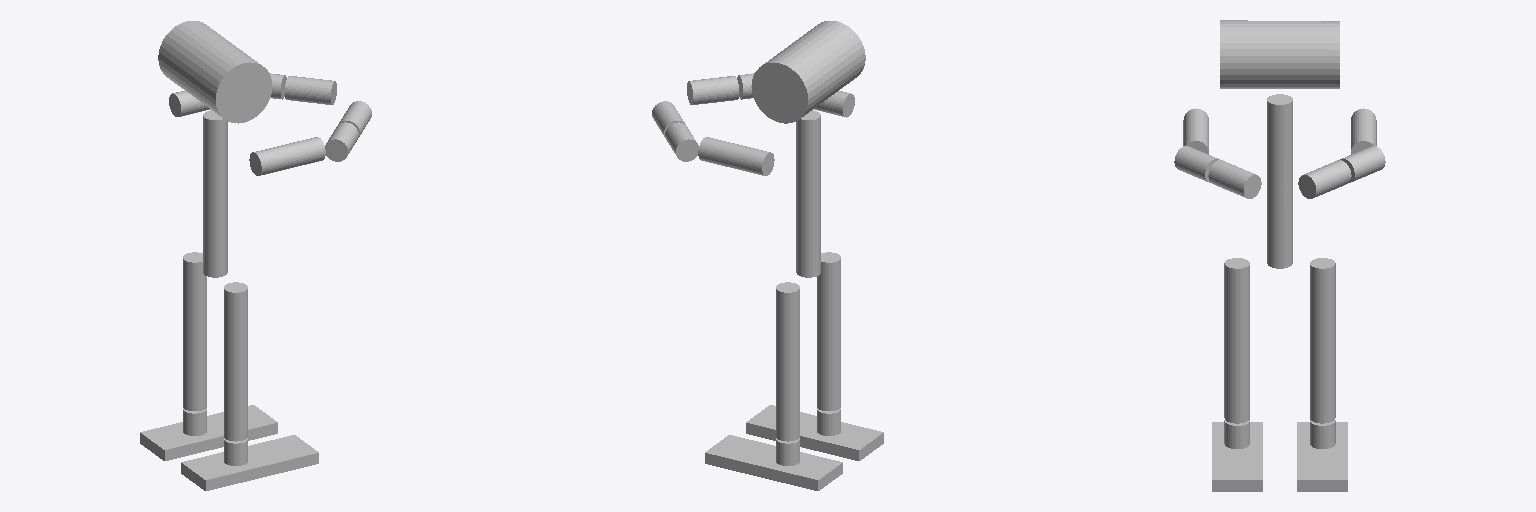
URDF robot description (nao):
<?xml version="1.0" ?>
<!-- =================================================================================== -->
<!-- |    This document was autogenerated by xacro from nao_robot_v4_structure.urdf.xacro | -->
<!-- |    EDITING THIS FILE BY HAND IS NOT RECOMMENDED                                 | -->
<!-- =================================================================================== -->
<robot name="nao">
  <!-- 
  ROS urdf definition of the Nao humanoid robot by Aldebaran Robotics
  
  DO NOT INCLUDE THIS FILE DIRECTLY! USE nao_robot.urdf.xacro INSTEAD!

  This is part of the Nao-Stack of University of Freiburg, available at:
  http://code.google.com/p/alufr-ros-pkg/

  Authors: [author], [author], [author]

  Joint names and properties are according to the Nao-documentation of
  Aldebaran Robotics ("Kinematics 4.0" for Nao V4) and REP-120:
  http://ros.org/reps/rep-0120.html 
      
  Note that according to the documentation, the joint limits for the left leg 
  are different from the corresponding limits for the right leg. 
  For {L,R}HipPitch, {L,R}KneePitch and {L,R}AnklePitch the smallest interval 
  of the joint limits was chosen, whereas for {L,R}HipRoll and {L,R}AnkleRoll 
  the respective (differing) limits were copied from the documentation.
      
  The joint limits for {L,R}ShoulderRoll and {L,R}ElbowRoll do
  not include the zero position.

  TODO: effort and velocity limits are DUMMY values!
  TODO: Inertial matrix is wrong or contains dummdy values. 
        Docs say inertial matrix is in link frame, URDF expects CoM frame

-->
  <!--Visuals-->
  <material name="LightGrey">
    <color rgba="0.8 0.8 0.8 1.0"/>
  </material>
  <material name="Grey">
    <color rgba="0.6 0.6 0.6 1.0"/>
  </material>
  <material name="DarkGrey">
    <color rgba="0.3 0.3 0.3 1.0"/>
  </material>
  <material name="Black">
    <color rgba="0.1 0.1 0.1 1.0"/>
  </material>
  <!-- dummy first link, directly connects with torso -->
  <link name="base_link"/>
  <!-- first real link of the robot, inertial reference frame -->
  <link name="torso">
    <!--<inertial>
      <origin xyz="0 0 0" rpy="0 0 0"/>
      <mass value="0"/>
      <inertia ixx="0"  ixy="0"  ixz="0" iyy="0" iyz="0" izz="0" />
    </inertial> -->
    <inertial>
      <origin rpy="0 0 0" xyz="-0.00413 0.00009 0.04342"/>
      <mass value="1.04956"/>
      <inertia ixx="0.00487953284" ixy="-0.00001428591" ixz="-0.00019545651" iyy="0.00470360698" iyz="0.00002224589" izz="0.0015671352"/>
    </inertial>
    <visual>
      <!-- one cylinder spanning over HipOffsetZ and NeckOffsetZ -->
      <origin rpy="0 0 0" xyz="0 0 0.02075"/>
      <geometry>
        <cylinder length="0.2115" radius="0.015"/>
      </geometry>
      <material name="LightGrey"/>
    </visual>
  </link>
  <link name="HeadYaw_link">
    <inertial>
      <origin rpy="0 0 0" xyz="-0.00001 0.00014 -0.02742"/>
      <mass value="0.06442"/>
      <inertia ixx="0.00006223368" ixy="0.00000000042" ixz="0.00000007448" iyy="0.00006324431" iyz="0.00000010416" izz="0.00000549462"/>
    </inertial>
  </link>
  <link name="HeadPitch_link">
    <inertial>
      <origin rpy="0 0 0" xyz="-0.00112 -0.00003 0.05258"/>
      <mass value="0.60533"/>
      <inertia ixx="0.00208895741" ixy="0.00000549094" ixz="0.0001133995" iyy="1932222.63e-9" iyz="-0.00002803917" izz="0.00082257793"/>
    </inertial>
    <visual>
      <origin rpy="1.57 0 0" xyz="0 0 0.058"/>
      <geometry>
        <cylinder length="0.14" radius="0.04"/>
      </geometry>
      <material name="LightGrey"/>
    </visual>
    <collision>
      <origin rpy="1.57 0 0" xyz="0 0 0.058"/>
      <geometry>
        <cylinder length="0.14" radius="0.04"/>
      </geometry>
    </collision>
  </link>
  <link name="gaze"/>
  <link name="CameraTop_frame">
  </link>
  <link name="CameraBottom_frame">
  </link>
  <link name="l_wrist"/>
  <link name="r_wrist"/>
  <link name="l_gripper">
  </link>
  <link name="r_gripper">
  </link>
  <link name="LShoulderPitch_link">
    <inertial>
      <origin rpy="0 0 0" xyz="-0.00165 0.02663 0.00014"/>
      <mass value="0.07504"/>
      <inertia ixx="0" ixy="0" ixz="0" iyy="0" iyz="0" izz="0"/>
    </inertial>
  </link>
  <link name="LElbowYaw_link">
    <inertial>
      <origin rpy="0 0 0" xyz="-0.02744 0.00000 -0.00014"/>
      <mass value="0.06483"/>
      <inertia ixx="0" ixy="0" ixz="0" iyy="0" iyz="0" izz="0"/>
    </inertial>
  </link>
  <link name="LElbowRoll_link">
    <inertial>
      <origin rpy="0 0 0" xyz="0.02552 0.00281 0.00090"/>
      <mass value="0.07778"/>
      <inertia ixx="0" ixy="0" ixz="0" iyy="0" iyz="0" izz="0"/>
    </inertial>
    <visual>
      <origin rpy="1.5707963267948966 0 1.5707963267948966" xyz="0.025325 0 0"/>
      <geometry>
        <cylinder length="0.05065" radius="0.015"/>
      </geometry>
      <material name="LightGrey"/>
    </visual>
  </link>
  <link name="LWristYaw_link">
    <inertial>
      <origin rpy="0 0 0" xyz="0.03434 0.00088 -0.00308"/>
      <mass value="0.18533"/>
      <inertia ixx="0" ixy="0" ixz="0" iyy="0" iyz="0" izz="0"/>
    </inertial>
    <visual>
      <origin rpy="1.5707963267948966 0 1.5707963267948966" xyz="0.029 0 0"/>
      <geometry>
        <cylinder length="0.058" radius="0.015"/>
      </geometry>
      <material name="LightGrey"/>
    </visual>
  </link>
  <link name="RShoulderPitch_link">
    <inertial>
      <origin rpy="0 0 0" xyz="-0.00165 -0.02663 0.00014"/>
      <mass value="0.07504"/>
      <inertia ixx="0" ixy="0" ixz="0" iyy="0" iyz="0" izz="0"/>
    </inertial>
  </link>
  <link name="RElbowYaw_link">
    <inertial>
      <origin rpy="0 0 0" xyz="-0.02744 0.00000 -0.00014"/>
      <mass value="0.06483"/>
      <inertia ixx="0" ixy="0" ixz="0" iyy="0" iyz="0" izz="0"/>
    </inertial>
  </link>
  <link name="RElbowRoll_link">
    <inertial>
      <origin rpy="0 0 0" xyz="0.02552 -0.00281 0.00090"/>
      <mass value="0.07778"/>
      <inertia ixx="0" ixy="0" ixz="0" iyy="0" iyz="0" izz="0"/>
    </inertial>
    <visual>
      <origin rpy="1.5707963267948966 0 1.5707963267948966" xyz="0.025325 0 0"/>
      <geometry>
        <cylinder length="0.05065" radius="0.015"/>
      </geometry>
      <material name="LightGrey"/>
    </visual>
  </link>
  <link name="RWristYaw_link">
    <inertial>
      <origin rpy="0 0 0" xyz="0.03434 -0.00088 -0.00308"/>
      <mass value="0.18533"/>
      <inertia ixx="0" ixy="0" ixz="0" iyy="0" iyz="0" izz="0"/>
    </inertial>
    <visual>
      <origin rpy="1.5707963267948966 0 1.5707963267948966" xyz="0.029 0 0"/>
      <geometry>
        <cylinder length="0.058" radius="0.015"/>
      </geometry>
      <material name="LightGrey"/>
    </visual>
  </link>
  <link name="RShoulderRoll_link">
    <inertial>
      <origin rpy="0 0 0" xyz="0.02429 -0.00952 0.00320"/>
      <mass value="0.15794"/>
      <inertia ixx="0" ixy="0" ixz="0" iyy="0" iyz="0" izz="0"/>
    </inertial>
    <visual>
      <origin rpy="1.5707963267948966 0 1.5707963267948966" xyz="0.045 0 0"/>
      <geometry>
        <cylinder length="0.09" radius="0.015"/>
      </geometry>
      <material name="LightGrey"/>
    </visual>
  </link>
  <link name="LShoulderRoll_link">
    <inertial>
      <origin rpy="0 0 0" xyz="0.02455 0.00563 0.00330"/>
      <mass value="0.15777"/>
      <inertia ixx="0" ixy="0" ixz="0" iyy="0" iyz="0" izz="0"/>
    </inertial>
    <visual>
      <origin rpy="1.5707963267948966 0 1.5707963267948966" xyz="0.045 0 0"/>
      <geometry>
        <cylinder length="0.09" radius="0.015"/>
      </geometry>
      <material name="LightGrey"/>
    </visual>
  </link>
  <link name="l_ankle"/>
  <link name="r_ankle"/>
  <link name="l_sole">
    <visual>
      <origin rpy="0 0 0" xyz="0.02 0 0.0075"/>
      <geometry>
        <box size="0.16 0.06 0.015"/>
      </geometry>
      <material name="LightGrey"/>
    </visual>
    <collision>
      <origin rpy="0 0 0" xyz="0.02 0 0.0075"/>
      <geometry>
        <box size="0.16 0.06 0.015"/>
      </geometry>
    </collision>
  </link>
  <link name="r_sole">
    <visual>
      <origin rpy="0 0 0" xyz="0.02 0 0.0075"/>
      <geometry>
        <box size="0.16 0.06 0.015"/>
      </geometry>
      <material name="LightGrey"/>
    </visual>
    <collision>
      <origin rpy="0 0 0" xyz="0.02 0 0.0075"/>
      <geometry>
        <box size="0.16 0.06 0.015"/>
      </geometry>
    </collision>
  </link>
  <link name="LHipYawPitch_link">
    <inertial>
      <origin rpy="0 0 0" xyz="-0.00773 -0.0115 0.0269"/>
      <mass value="0.07050"/>
      <!-- +/-0.00068 -->
      <inertia ixx="0" ixy="0" ixz="0" iyy="0" iyz="0" izz="0"/>
    </inertial>
  </link>
  <link name="LHipRoll_link">
    <inertial>
      <origin rpy="0 0 0" xyz="-0.01549 0.00029 -0.00516"/>
      <mass value="0.13053"/>
      <inertia ixx="0" ixy="0" ixz="0" iyy="0" iyz="0" izz="0"/>
    </inertial>
  </link>
  <link name="LHipPitch_link">
    <inertial>
      <origin rpy="0 0 0" xyz="0.00139 0.00223 -0.05373"/>
      <mass value="0.38972"/>
      <inertia ixx="0" ixy="0" ixz="0" iyy="0" iyz="0" izz="0"/>
    </inertial>
    <visual>
      <origin rpy="0 0 0" xyz="0 0 -0.05"/>
      <geometry>
        <cylinder length="0.1" radius="0.015"/>
      </geometry>
      <material name="LightGrey"/>
    </visual>
  </link>
  <link name="LKneePitch_link">
    <inertial>
      <origin rpy="0 0 0" xyz="0.00423 0.00223 -0.04937"/>
      <mass value="0.29152"/>
      <inertia ixx="0" ixy="0" ixz="0" iyy="0" iyz="0" izz="0"/>
    </inertial>
    <visual>
      <origin rpy="0 0 0" xyz="0 0 -0.05"/>
      <geometry>
        <cylinder length="0.1" radius="0.015"/>
      </geometry>
      <material name="LightGrey"/>
    </visual>
    <collision>
      <origin rpy="0 0 0" xyz="0 0 -0.05"/>
      <geometry>
        <cylinder length="0.1" radius="0.015"/>
      </geometry>
    </collision>
  </link>
  <link name="LAnklePitch_link">
    <inertial>
      <origin rpy="0 0 0" xyz="0.00045 0.00029 0.00684"/>
      <mass value="0.13415"/>
      <inertia ixx="0" ixy="0" ixz="0" iyy="0" iyz="0" izz="0"/>
    </inertial>
  </link>
  <link name="LAnkleRoll_link">
    <inertial>
      <origin rpy="0 0 0" xyz="0.02541 0.00331 -0.03239"/>
      <mass value="0.16178"/>
      <inertia ixx="0" ixy="0" ixz="0" iyy="0" iyz="0" izz="0"/>
    </inertial>
    <visual>
      <origin rpy="0 0 0" xyz="0 0 -0.023"/>
      <geometry>
        <cylinder length="0.046" radius="0.015"/>
      </geometry>
      <material name="LightGrey"/>
    </visual>
    <collision>
      <origin rpy="0 0 0" xyz="0 0 -0.023"/>
      <geometry>
        <cylinder length="0.046" radius="0.015"/>
      </geometry>
    </collision>
  </link>
  <link name="RHipYawPitch_link">
    <inertial>
      <origin rpy="0 0 0" xyz="-0.00773 0.0115 0.0269"/>
      <mass value="0.07050"/>
      <!-- +/-0.00068 -->
      <inertia ixx="0" ixy="0" ixz="0" iyy="0" iyz="0" izz="0"/>
    </inertial>
  </link>
  <link name="RHipRoll_link">
    <inertial>
      <origin rpy="0 0 0" xyz="-0.01549 -0.00029 -0.00516"/>
      <mass value="0.13053"/>
      <inertia ixx="0" ixy="0" ixz="0" iyy="0" iyz="0" izz="0"/>
    </inertial>
  </link>
  <link name="RHipPitch_link">
    <inertial>
      <origin rpy="0 0 0" xyz="0.00139 -0.00223 -0.05373"/>
      <mass value="0.38972"/>
      <inertia ixx="0" ixy="0" ixz="0" iyy="0" iyz="0" izz="0"/>
    </inertial>
    <visual>
      <origin rpy="0 0 0" xyz="0 0 -0.05"/>
      <geometry>
        <cylinder length="0.1" radius="0.015"/>
      </geometry>
      <material name="LightGrey"/>
    </visual>
  </link>
  <link name="RKneePitch_link">
    <inertial>
      <origin rpy="0 0 0" xyz="0.00423 -0.00223 -0.04937"/>
      <mass value="0.29152"/>
      <inertia ixx="0" ixy="0" ixz="0" iyy="0" iyz="0" izz="0"/>
    </inertial>
    <visual>
      <origin rpy="0 0 0" xyz="0 0 -0.05"/>
      <geometry>
        <cylinder length="0.1" radius="0.015"/>
      </geometry>
      <material name="LightGrey"/>
    </visual>
    <collision>
      <origin rpy="0 0 0" xyz="0 0 -0.05"/>
      <geometry>
        <cylinder length="0.1" radius="0.015"/>
      </geometry>
    </collision>
  </link>
  <link name="RAnklePitch_link">
    <inertial>
      <origin rpy="0 0 0" xyz="0.00045 -0.00029 0.00684"/>
      <mass value="0.13415"/>
      <inertia ixx="0" ixy="0" ixz="0" iyy="0" iyz="0" izz="0"/>
    </inertial>
  </link>
  <link name="RAnkleRoll_link">
    <inertial>
      <origin rpy="0 0 0" xyz="0.02541 -0.00331 -0.03239"/>
      <mass value="0.16178"/>
      <inertia ixx="0" ixy="0" ixz="0" iyy="0" iyz="0" izz="0"/>
    </inertial>
    <visual>
      <origin rpy="0 0 0" xyz="0 0 -0.023"/>
      <geometry>
        <cylinder length="0.046" radius="0.015"/>
      </geometry>
      <material name="LightGrey"/>
    </visual>
    <collision>
      <origin rpy="0 0 0" xyz="0 0 -0.023"/>
      <geometry>
        <cylinder length="0.046" radius="0.015"/>
      </geometry>
    </collision>
  </link>
  <!--   Joints following below -->
  <joint name="base_joint" type="fixed">
    <child link="torso"/>
    <parent link="base_link"/>
    <origin rpy="0 0 0" xyz="0 0 0"/>
  </joint>
  <!-- Head joints -->
  <joint name="HeadYaw" type="revolute">
    <parent link="torso"/>
    <child link="HeadYaw_link"/>
    <!-- NeckOffsetZ -->
    <origin rpy="0 0 0" xyz="0 0 0.1265"/>
    <axis xyz="0 0 1"/>
    <limit effort="30" lower="-2.0857" upper="2.0857" velocity="3.0"/>
  </joint>
  <joint name="HeadPitch" type="revolute">
    <parent link="HeadYaw_link"/>
    <child link="HeadPitch_link"/>
    <origin rpy="0 0 0" xyz="0 0 0"/>
    <axis xyz="0 1 0"/>
    <limit effort="30" lower="-0.6720" upper="0.5149" velocity="3.0"/>
  </joint>
  <joint name="gaze_joint" type="fixed">
    <parent link="HeadPitch_link"/>
    <child link="gaze"/>
    <origin xyz="0.0539 0 0.05"/>
  </joint>
  <joint name="CameraTop" type="fixed">
    <parent link="HeadPitch_link"/>
    <child link="CameraTop_frame"/>
    <!-- rotated by 1.2 degress -->
    <origin rpy="-1.59174 0 -1.5707963267948966" xyz="0.05871 0 0.06364"/>
  </joint>
  <joint name="CameraBottom" type="fixed">
    <parent link="HeadPitch_link"/>
    <child link="CameraBottom_frame"/>
    <!-- rotated by 39.7 degrees -->
    <origin rpy="-2.263692 0 -1.5707963267948966" xyz="0.05071 0 0.01774"/>
  </joint>
  <joint name="l_wrist_joint" type="fixed">
    <parent link="LWristYaw_link"/>
    <child link="l_wrist"/>
    <origin xyz="0 0 0"/>
  </joint>
  <joint name="r_wrist_joint" type="fixed">
    <parent link="RWristYaw_link"/>
    <child link="r_wrist"/>
    <origin xyz="0 0 0"/>
  </joint>
  <joint name="l_gripper_joint" type="fixed">
    <parent link="l_wrist"/>
    <child link="l_gripper"/>
    <origin xyz="0.058 0 -0.0159"/>
  </joint>
  <joint name="r_gripper_joint" type="fixed">
    <parent link="r_wrist"/>
    <child link="r_gripper"/>
    <origin xyz="0.058 0 -0.0159"/>
  </joint>
  <joint name="LElbowRoll" type="revolute">
    <parent link="LElbowYaw_link"/>
    <child link="LElbowRoll_link"/>
    <origin rpy="0 0 0" xyz="0 0 0"/>
    <axis xyz="0 0 1"/>
    <limit effort="30" lower="-1.5446" upper="-0.0349" velocity="3.0"/>
  </joint>
  <joint name="RElbowRoll" type="revolute">
    <parent link="RElbowYaw_link"/>
    <child link="RElbowRoll_link"/>
    <origin rpy="0 0 0" xyz="0 0 0"/>
    <axis xyz="0 0 1"/>
    <limit effort="30" lower="0.0349" upper="1.5446" velocity="3.0"/>
  </joint>
  <joint name="LShoulderRoll" type="revolute">
    <parent link="LShoulderPitch_link"/>
    <child link="LShoulderRoll_link"/>
    <origin rpy="0 0 0" xyz="0 0 0"/>
    <axis xyz="0 0 1"/>
    <limit effort="30" lower="-0.3142" upper="1.3265" velocity="3.0"/>
  </joint>
  <joint name="RShoulderRoll" type="revolute">
    <parent link="RShoulderPitch_link"/>
    <child link="RShoulderRoll_link"/>
    <origin rpy="0 0 0" xyz="0 0 0"/>
    <axis xyz="0 0 1"/>
    <limit effort="30" lower="-1.3265" upper="0.3142" velocity="3.0"/>
  </joint>
  <joint name="LShoulderPitch" type="revolute">
    <parent link="torso"/>
    <child link="LShoulderPitch_link"/>
    <origin rpy="0 0 0" xyz="0 0.098 0.1"/>
    <axis xyz="0 1 0"/>
    <limit effort="30" lower="-2.0857" upper="2.0857" velocity="3.0"/>
  </joint>
  <joint name="LElbowYaw" type="revolute">
    <parent link="LShoulderRoll_link"/>
    <child link="LElbowYaw_link"/>
    <origin rpy="0 0 0" xyz="0.105 0.015 0"/>
    <axis xyz="1 0 0"/>
    <limit effort="30" lower="-2.0857" upper="2.0857" velocity="3.0"/>
  </joint>
  <joint name="LWristYaw" type="revolute">
    <parent link="LElbowRoll_link"/>
    <child link="LWristYaw_link"/>
    <origin rpy="0 0 0" xyz="0.05595 0 0"/>
    <axis xyz="1 0 0"/>
    <limit effort="30" lower="-1.8238" upper="1.8238" velocity="3.0"/>
  </joint>
  <joint name="RShoulderPitch" type="revolute">
    <parent link="torso"/>
    <child link="RShoulderPitch_link"/>
    <origin rpy="0 0 0" xyz="0 -0.098 0.1"/>
    <axis xyz="0 1 0"/>
    <limit effort="30" lower="-2.0857" upper="2.0857" velocity="3.0"/>
  </joint>
  <joint name="RElbowYaw" type="revolute">
    <parent link="RShoulderRoll_link"/>
    <child link="RElbowYaw_link"/>
    <origin rpy="0 0 0" xyz="0.105 -0.015 0"/>
    <axis xyz="1 0 0"/>
    <limit effort="30" lower="-2.0857" upper="2.0857" velocity="3.0"/>
  </joint>
  <joint name="RWristYaw" type="revolute">
    <parent link="RElbowRoll_link"/>
    <child link="RWristYaw_link"/>
    <origin rpy="0 0 0" xyz="0.05595 0 0"/>
    <axis xyz="1 0 0"/>
    <limit effort="30" lower="-1.8238" upper="1.8238" velocity="3.0"/>
  </joint>
  <!-- Leg joints -->
  <joint name="LHipYawPitch" type="revolute">
    <parent link="torso"/>
    <child link="LHipYawPitch_link"/>
    <origin rpy="0 0 0" xyz="0 0.05 -0.085"/>
    <axis xyz="0 0.707106 -0.707106"/>
    <limit effort="30" lower="-1.145303" upper="0.740810" velocity="3.0"/>
  </joint>
  <joint name="RHipYawPitch" type="revolute">
    <parent link="torso"/>
    <child link="RHipYawPitch_link"/>
    <origin rpy="0 0 0" xyz="0 -0.05 -0.085"/>
    <axis xyz="0 0.707106 0.707106"/>
    <limit effort="30" lower="-1.145303" upper="0.740810" velocity="3.0"/>
    <mimic joint="LHipYawPitch" multiplier="1" offset="0"/>
  </joint>
  <joint name="LHipRoll" type="revolute">
    <parent link="LHipYawPitch_link"/>
    <child link="LHipRoll_link"/>
    <origin rpy="0 0 0" xyz="0 0 0"/>
    <axis xyz="1 0 0"/>
    <limit effort="30" lower="-0.379472" upper="0.790477" velocity="3.0"/>
  </joint>
  <joint name="RHipRoll" type="revolute">
    <parent link="RHipYawPitch_link"/>
    <child link="RHipRoll_link"/>
    <origin rpy="0 0 0" xyz="0 0 0"/>
    <axis xyz="1 0 0"/>
    <limit effort="30" lower="-0.738321" upper="0.414754" velocity="3.0"/>
  </joint>
  <joint name="LAnkleRoll" type="revolute">
    <parent link="LAnklePitch_link"/>
    <child link="LAnkleRoll_link"/>
    <origin rpy="0 0 0" xyz="0 0 0"/>
    <axis xyz="1 0 0"/>
    <limit effort="30" lower="-0.769001" upper="0.397880" velocity="3.0"/>
  </joint>
  <joint name="RAnkleRoll" type="revolute">
    <parent link="RAnklePitch_link"/>
    <child link="RAnkleRoll_link"/>
    <origin rpy="0 0 0" xyz="0 0 0"/>
    <axis xyz="1 0 0"/>
    <limit effort="30" lower="-0.388676" upper="0.785875" velocity="3.0"/>
  </joint>
  <joint name="l_ankle_joint" type="fixed">
    <parent link="LAnkleRoll_link"/>
    <child link="l_ankle"/>
    <origin xyz="0 0 0"/>
  </joint>
  <joint name="r_ankle_joint" type="fixed">
    <parent link="RAnkleRoll_link"/>
    <child link="r_ankle"/>
    <origin xyz="0 0 0"/>
  </joint>
  <joint name="l_sole_joint" type="fixed">
    <parent link="l_ankle"/>
    <child link="l_sole"/>
    <origin xyz="0 0 -0.04519"/>
  </joint>
  <joint name="r_sole_joint" type="fixed">
    <parent link="r_ankle"/>
    <child link="r_sole"/>
    <origin xyz="0 0 -0.04519"/>
  </joint>
  <joint name="LHipPitch" type="revolute">
    <parent link="LHipRoll_link"/>
    <child link="LHipPitch_link"/>
    <origin rpy="0 0 0" xyz="0 0 0"/>
    <axis xyz="0 1 0"/>
    <!--Nao V3 and V4-->
    <!-- LHipPitch limits: -1.773912 .. 0.484090 -->
    <!-- RHipPitch limits: -1.772308 .. 0.485624 -->
    <limit effort="30" lower="-1.772308" upper="0.484090" velocity="3.0"/>
  </joint>
  <joint name="LKneePitch" type="revolute">
    <parent link="LHipPitch_link"/>
    <child link="LKneePitch_link"/>
    <origin rpy="0 0 0" xyz="0 0 -0.1"/>
    <axis xyz="0 1 0"/>
    <!-- LKneePitch limits: -0.092346 .. 2.112528 -->
    <!-- RKneePitch limits: -0.103083 .. 2.120198 -->
    <limit effort="30" lower="-0.092346" upper="2.112528" velocity="3.0"/>
  </joint>
  <joint name="LAnklePitch" type="revolute">
    <parent link="LKneePitch_link"/>
    <child link="LAnklePitch_link"/>
    <origin rpy="0 0 0" xyz="0 0 -0.10290"/>
    <axis xyz="0 1 0"/>
    <!-- LAnklePitch limits: -1.189516 .. 0.922747 -->
    <!-- RAnklePitch limits: -1.186448 .. 0.932056 -->
    <limit effort="30" lower="-1.186448" upper="0.922747" velocity="3.0"/>
  </joint>
  <joint name="RHipPitch" type="revolute">
    <parent link="RHipRoll_link"/>
    <child link="RHipPitch_link"/>
    <origin rpy="0 0 0" xyz="0 0 0"/>
    <axis xyz="0 1 0"/>
    <!--Nao V3 and V4-->
    <!-- LHipPitch limits: -1.773912 .. 0.484090 -->
    <!-- RHipPitch limits: -1.772308 .. 0.485624 -->
    <limit effort="30" lower="-1.772308" upper="0.484090" velocity="3.0"/>
  </joint>
  <joint name="RKneePitch" type="revolute">
    <parent link="RHipPitch_link"/>
    <child link="RKneePitch_link"/>
    <origin rpy="0 0 0" xyz="0 0 -0.1"/>
    <axis xyz="0 1 0"/>
    <!-- LKneePitch limits: -0.092346 .. 2.112528 -->
    <!-- RKneePitch limits: -0.103083 .. 2.120198 -->
    <limit effort="30" lower="-0.092346" upper="2.112528" velocity="3.0"/>
  </joint>
  <joint name="RAnklePitch" type="revolute">
    <parent link="RKneePitch_link"/>
    <child link="RAnklePitch_link"/>
    <origin rpy="0 0 0" xyz="0 0 -0.10290"/>
    <axis xyz="0 1 0"/>
    <!-- LAnklePitch limits: -1.189516 .. 0.922747 -->
    <!-- RAnklePitch limits: -1.186448 .. 0.932056 -->
    <limit effort="30" lower="-1.186448" upper="0.922747" velocity="3.0"/>
  </joint>
</robot>

--- Render facts (derived) ---
Views: 3 orthographic renders of the robot side by side, from view 1: azimuth 30°, elevation 25°; view 2: azimuth 150°, elevation 25°; view 3: azimuth 270°, elevation 25°.
Model nao with 37 links and 36 joints (24 revolute, 12 fixed), rooted at base_link, posed all joints at 0 but 2 set to mid-range because 0 is outside their limits (LElbowRoll = -0.7897, RElbowRoll = 0.7897).
Visible links, largest first — view 1: HeadPitch_link, torso, r_sole, l_sole, RHipPitch_link, LHipPitch_link, RShoulderRoll_link, LKneePitch_link, RKneePitch_link, LWristYaw_link, RElbowRoll_link, LShoulderRoll_link (+3 smaller); view 2: HeadPitch_link, torso, l_sole, r_sole, LHipPitch_link, RHipPitch_link, LShoulderRoll_link, LKneePitch_link, RKneePitch_link, RWristYaw_link, LElbowRoll_link, RShoulderRoll_link (+3 smaller); view 3: HeadPitch_link, torso, l_sole, r_sole, LHipPitch_link, RHipPitch_link, LKneePitch_link, RKneePitch_link, LWristYaw_link, RWristYaw_link, RShoulderRoll_link, LShoulderRoll_link (+4 smaller).
Link boxes in pixels (<box>): HeadPitch_link: <box>158,21,271,123</box>; torso: <box>203,110,227,277</box>; r_sole: <box>181,435,318,490</box>; l_sole: <box>140,405,277,460</box>; RHipPitch_link: <box>224,282,247,366</box>; LHipPitch_link: <box>183,252,206,336</box>; RShoulderRoll_link: <box>249,137,325,175</box>; LKneePitch_link: <box>183,334,206,410</box>; RKneePitch_link: <box>224,364,247,441</box>; LWristYaw_link: <box>285,76,336,104</box>; RElbowRoll_link: <box>325,122,358,161</box>; LShoulderRoll_link: <box>169,91,209,116</box>; HeadPitch_link: <box>751,21,865,123</box>; torso: <box>796,110,820,277</box>; l_sole: <box>705,435,842,490</box>; r_sole: <box>746,405,883,460</box>; LHipPitch_link: <box>776,282,799,366</box>; RHipPitch_link: <box>817,252,840,336</box>; LShoulderRoll_link: <box>698,137,774,175</box>; LKneePitch_link: <box>776,364,799,441</box>; RKneePitch_link: <box>817,334,840,410</box>; RWristYaw_link: <box>687,76,738,104</box>; LElbowRoll_link: <box>665,122,698,161</box>; RShoulderRoll_link: <box>814,91,854,117</box>; HeadPitch_link: <box>1220,20,1339,88</box>; torso: <box>1267,94,1292,268</box>; l_sole: <box>1297,422,1347,491</box>; r_sole: <box>1212,422,1262,491</box>; LHipPitch_link: <box>1310,258,1335,345</box>; RHipPitch_link: <box>1224,258,1249,345</box>; LKneePitch_link: <box>1310,341,1335,423</box>; RKneePitch_link: <box>1224,341,1249,423</box>; LWristYaw_link: <box>1298,160,1351,198</box>; RWristYaw_link: <box>1208,160,1261,198</box>; RShoulderRoll_link: <box>1183,108,1208,154</box>; LShoulderRoll_link: <box>1351,108,1376,154</box>.
Size in the robot's own frame: 0.2559 by 0.2471 by 0.5585 metres.
Geometry: primitives only (box / cylinder / sphere), no mesh files.